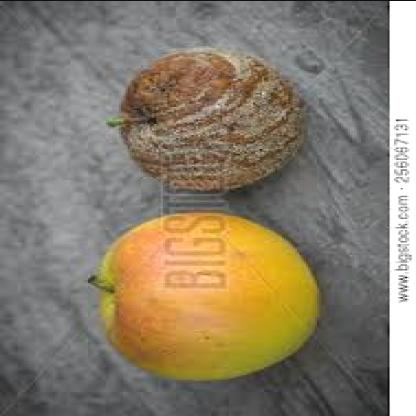apple: (104, 215, 324, 380)
damaged_apple: (121, 50, 306, 190)
